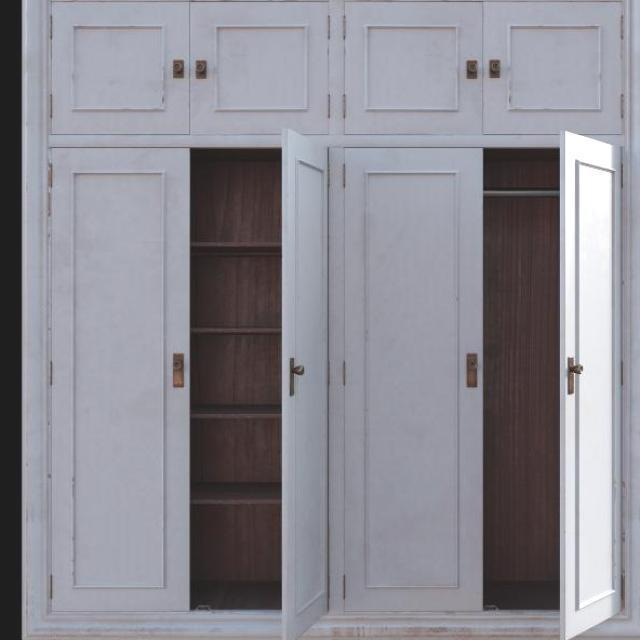door: (46, 131, 198, 620), (348, 138, 482, 619), (259, 128, 340, 632), (558, 114, 625, 636)
